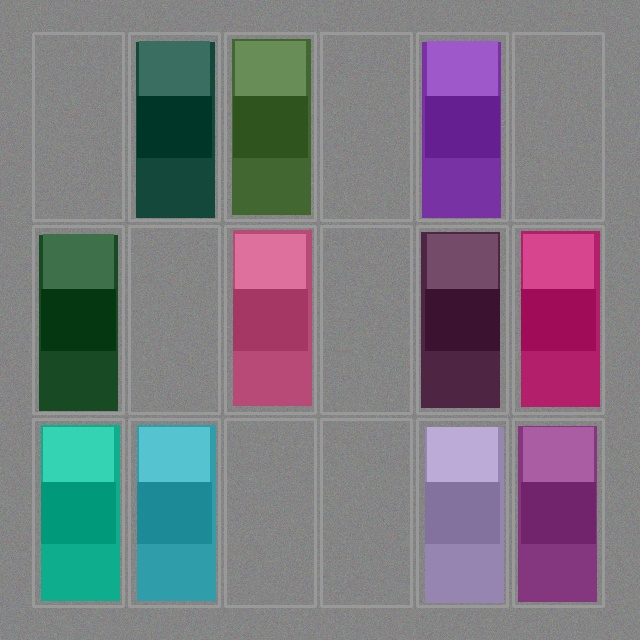space-empty: (35, 35, 121, 218), (323, 35, 409, 218), (515, 35, 601, 218), (131, 228, 217, 411), (323, 228, 409, 411), (227, 421, 313, 604), (323, 421, 409, 604)
space-occupied: (131, 35, 217, 218), (227, 35, 313, 218), (419, 35, 505, 218), (35, 228, 121, 411), (227, 228, 313, 411), (419, 228, 505, 411), (515, 228, 601, 411), (35, 421, 121, 604), (131, 421, 217, 604), (419, 421, 505, 604), (515, 421, 601, 604)
